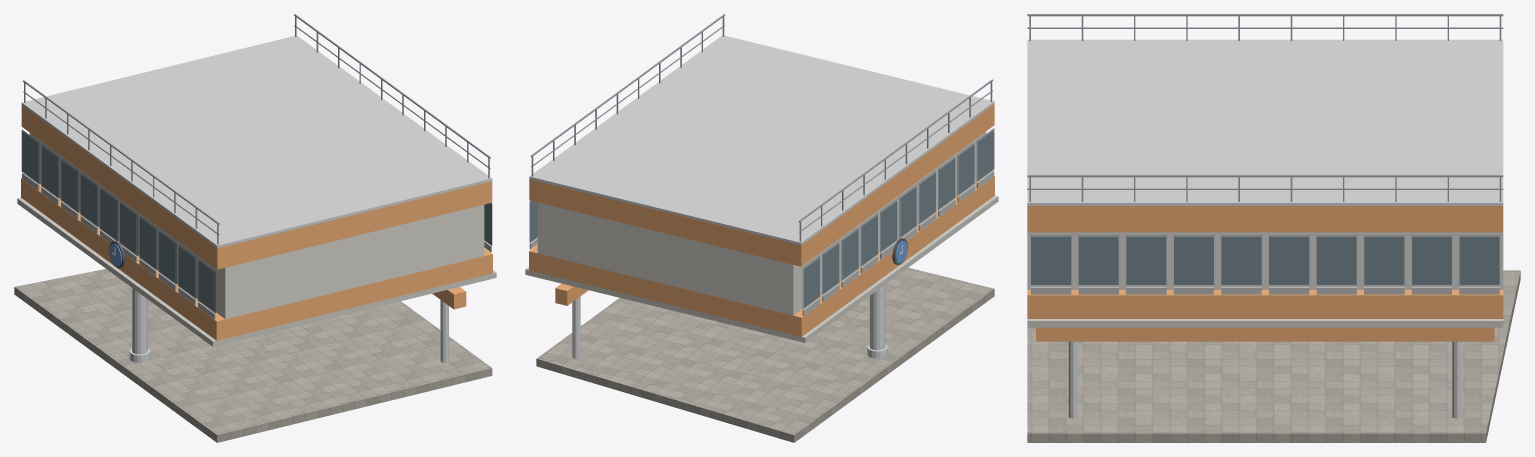
3 renders of one model, left to right at view 1: azimuth 30°, elevation 25°; view 2: azimuth 150°, elevation 25°; view 3: azimuth 270°, elevation 25°, orthographic. The views are drawn at different scales.
Parts seen in each view (by area): view 1: link-west__roof, link-west__stone, link-west__peach, link-west__wall, link-west__glass, link-west__soffit, link-west__rail, link-west__column, link-west__frame, link-west__louvre; view 2: link-west__roof, link-west__stone, link-west__peach, link-west__wall, link-west__glass, link-west__soffit, link-west__rail, link-west__column, link-west__frame, link-west__louvre; view 3: link-west__roof, link-west__stone, link-west__peach, link-west__glass, link-west__rail, link-west__wall, link-west__soffit, link-west__frame, link-west__louvre, link-west__column.
Boxes of the visible parts, x1,y1,x2,y2 form: link-west__roof: [21, 35, 492, 248]; link-west__stone: [14, 269, 492, 442]; link-west__peach: [21, 105, 492, 340]; link-west__wall: [29, 133, 484, 319]; link-west__glass: [22, 129, 491, 312]; link-west__soffit: [17, 197, 496, 346]; link-west__rail: [23, 14, 490, 244]; link-west__column: [129, 288, 448, 362]; link-west__frame: [21, 130, 492, 312]; link-west__louvre: [22, 173, 491, 319]; link-west__roof: [529, 35, 994, 245]; link-west__stone: [536, 267, 994, 442]; link-west__peach: [529, 104, 994, 336]; link-west__wall: [537, 131, 986, 315]; link-west__glass: [530, 128, 993, 309]; link-west__soffit: [525, 195, 998, 342]; link-west__rail: [530, 14, 993, 241]; link-west__column: [572, 284, 887, 358]; link-west__frame: [529, 128, 994, 309]; link-west__louvre: [529, 171, 994, 315]; link-west__roof: [1027, 39, 1503, 205]; link-west__stone: [1027, 270, 1520, 442]; link-west__peach: [1027, 206, 1503, 341]; link-west__glass: [1030, 235, 1500, 284]; link-west__rail: [1027, 14, 1503, 201]; link-west__wall: [1027, 232, 1503, 289]; link-west__soffit: [1027, 319, 1503, 327]; link-west__frame: [1029, 235, 1500, 286]; link-west__louvre: [1031, 287, 1499, 294]; link-west__column: [1068, 341, 1461, 418].
Bounding box in the file's own units: 13.83 × 10.19 × 17.1.
Materials: 13 (1 with a texture image).
